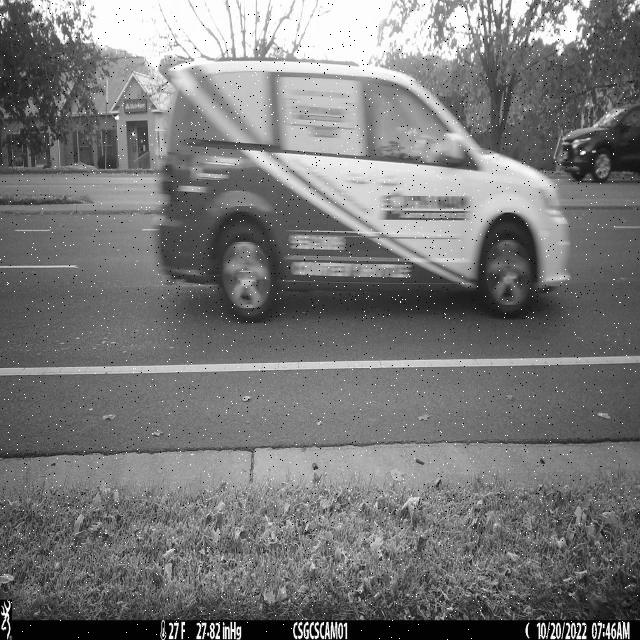Van: (155, 60, 571, 324)
